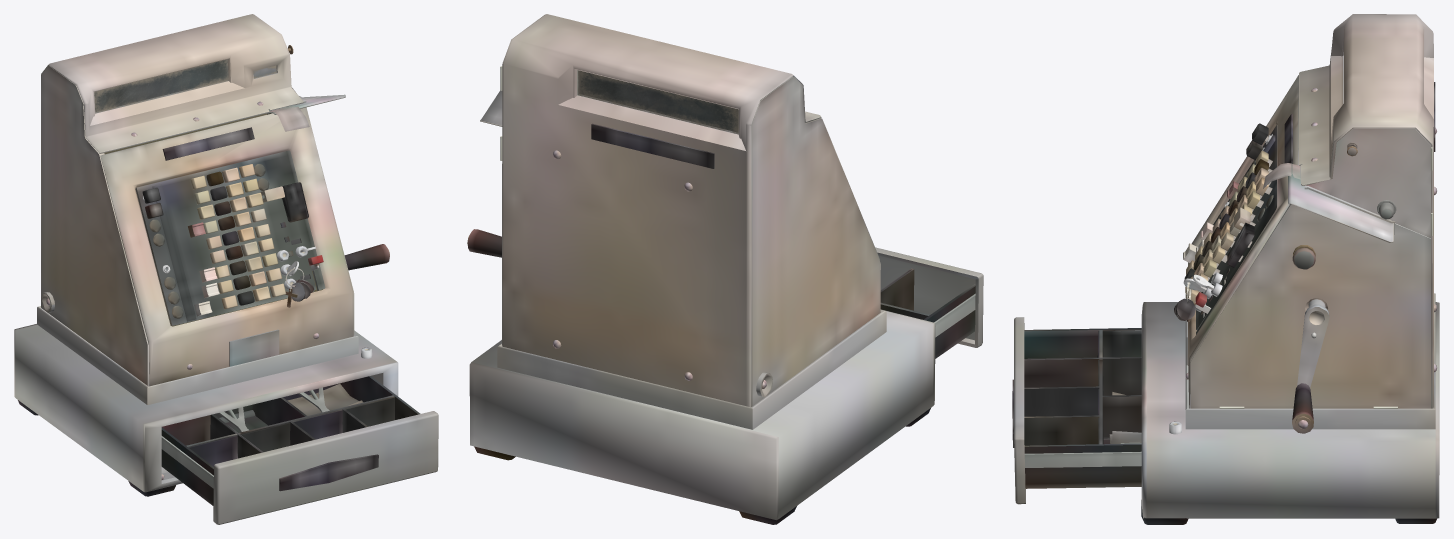
3 views of the same model, side by side, from view 1: azimuth 30°, elevation 25°; view 2: azimuth 150°, elevation 25°; view 3: azimuth 270°, elevation 25° (orthographic). The views are drawn at different scales.
Visible parts, largest first — view 1: CashRegister_01_body, CashRegister_011_drawer; view 2: CashRegister_01_body, CashRegister_011_drawer; view 3: CashRegister_01_body, CashRegister_011_drawer.
Part boxes in pixels (x1,y1,x2,y2): CashRegister_01_body: (14,14,398,496); CashRegister_011_drawer: (161,376,438,524); CashRegister_01_body: (467,14,935,524); CashRegister_011_drawer: (875,247,983,358); CashRegister_01_body: (1141,14,1439,524); CashRegister_011_drawer: (1012,317,1141,504).
Bounding box in the file's own units: 0.5993 × 0.6211 × 0.6227.
Materials: 2 (2 with a texture image).
